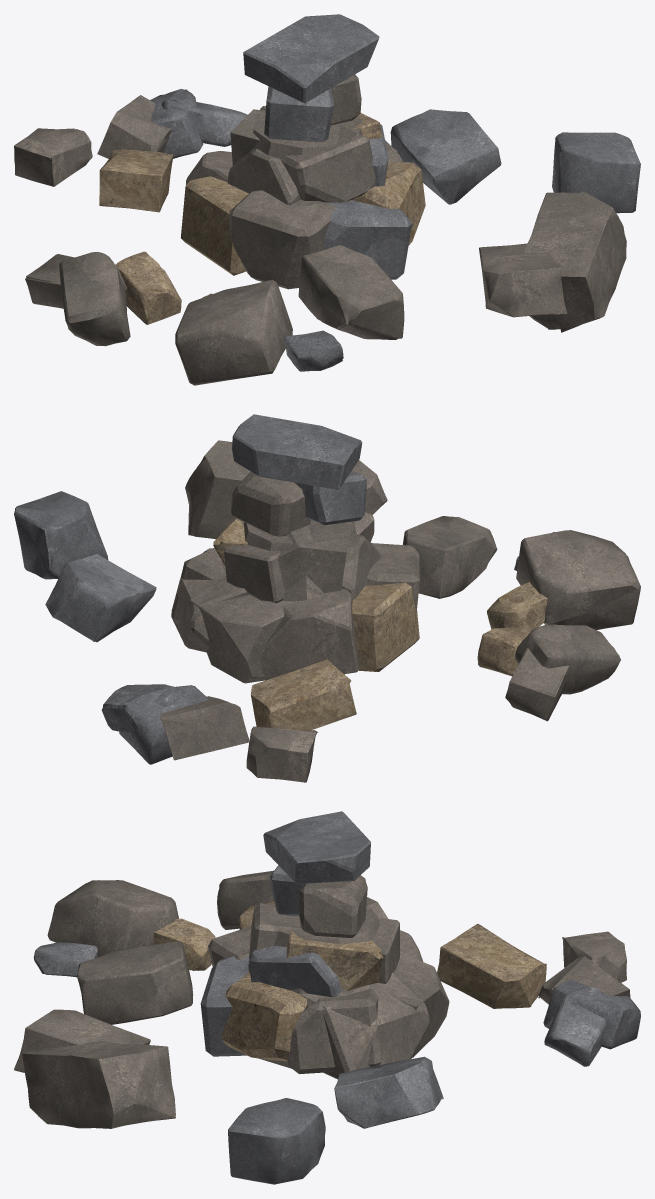
The model's file is cima-argualas.glb.
3 views of the same model, one above another, from view 1: azimuth 30°, elevation 25°; view 2: azimuth 150°, elevation 25°; view 3: azimuth 270°, elevation 25° (orthographic).
Visible parts, largest first — view 1: hito_caliza_parda, hito_caliza_gris, bloque12, bloque9, bloque5, hito_granito_ocre, bloque8, bloque1, bloque0, bloque4, bloque7, bloque3 (+6 smaller); view 2: hito_caliza_parda, hito_caliza_gris, bloque12, bloque8, bloque1, bloque7, hito_granito_ocre, bloque5, bloque0, bloque9, bloque13, bloque3 (+6 smaller); view 3: hito_caliza_parda, hito_caliza_gris, bloque9, hito_granito_ocre, bloque5, bloque12, bloque1, bloque7, bloque8, bloque4, bloque6, bloque15 (+5 smaller).
Part boxes in pixels (box(x1,y1,x2,y2)): hito_caliza_parda: box(186, 74, 402, 289); hito_caliza_gris: box(243, 14, 412, 279); bloque12: box(175, 279, 292, 385); bloque9: box(524, 191, 626, 332); bloque5: box(298, 245, 404, 339); hito_granito_ocre: box(180, 113, 425, 275); bloque8: box(390, 109, 501, 204); bloque1: box(552, 132, 640, 213); bloque0: box(59, 252, 130, 346); bloque4: box(479, 243, 567, 317); bloque7: box(99, 149, 173, 212); bloque3: box(14, 128, 92, 186); hito_caliza_parda: box(171, 472, 419, 683); hito_caliza_gris: box(232, 414, 371, 542); bloque12: box(516, 530, 640, 630); bloque8: box(45, 554, 156, 642); bloque1: box(14, 491, 108, 579); bloque7: box(250, 659, 356, 730); hito_granito_ocre: box(213, 518, 419, 671); bloque5: box(403, 516, 497, 598); bloque0: box(515, 624, 620, 694); bloque9: box(185, 440, 250, 538); bloque13: box(159, 696, 249, 760); bloque3: box(246, 726, 317, 782); hito_caliza_parda: box(208, 875, 449, 1079); hito_caliza_gris: box(200, 811, 370, 1056); bloque9: box(22, 1040, 175, 1128); hito_granito_ocre: box(221, 930, 383, 1061); bloque5: box(77, 941, 193, 1024); bloque12: box(47, 880, 178, 957); bloque1: box(228, 1098, 325, 1184); bloque7: box(437, 923, 546, 1008); bloque8: box(334, 1056, 443, 1128); bloque4: box(14, 1009, 150, 1072); bloque6: box(544, 986, 606, 1066); bloque15: box(543, 979, 640, 1049).
Size of the model in its own units: 4.86 by 1.81 by 4.53.
3 materials, 3 textured.
